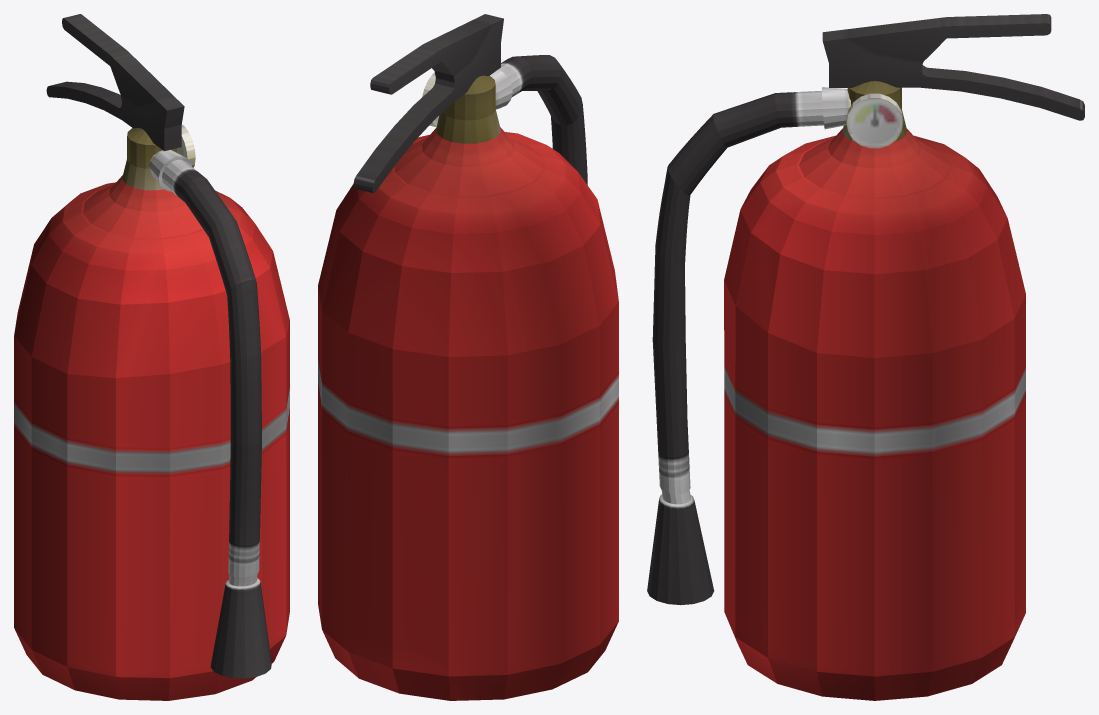
The model's file is fireextingiusher.fbx.
3 renders of one model, left to right at view 1: azimuth 30°, elevation 25°; view 2: azimuth 150°, elevation 25°; view 3: azimuth 270°, elevation 25°, orthographic. The views are drawn at different scales.
Parts seen in each view (by area): view 1: FireExtingiusher; view 2: FireExtingiusher; view 3: FireExtingiusher.
Boxes of the visible parts, <box> form: FireExtingiusher: <box>14,14,289,700</box>; FireExtingiusher: <box>318,14,618,700</box>; FireExtingiusher: <box>647,14,1084,700</box>.
Size of the model in its own units: 2 by 4.64 by 2.89.
1 material, 1 textured.
